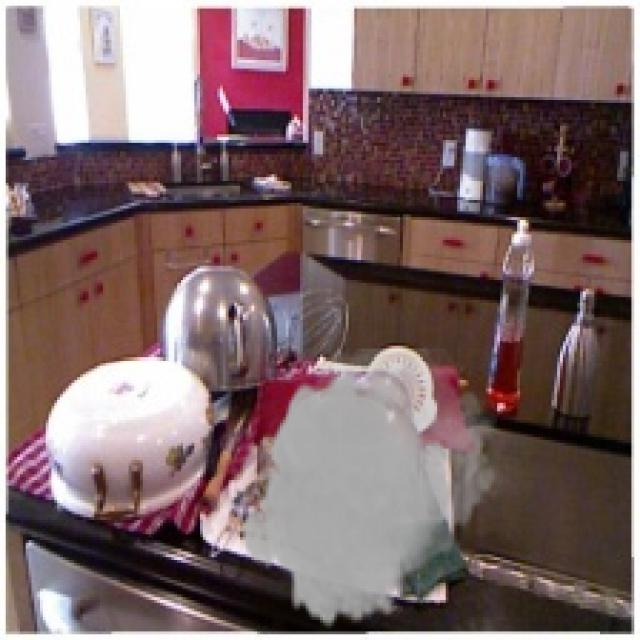smoke: (240, 348, 506, 632)
